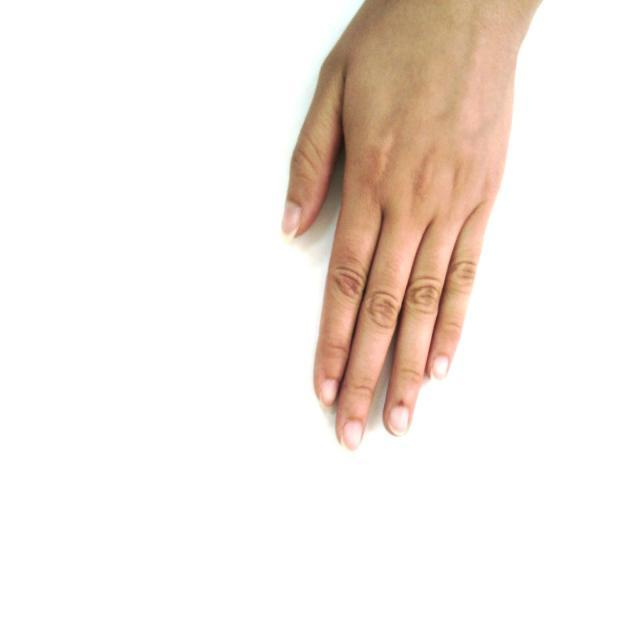Fingernail: (282, 204, 300, 239), (343, 420, 362, 450), (388, 406, 408, 434), (322, 381, 337, 405), (434, 357, 448, 380)
